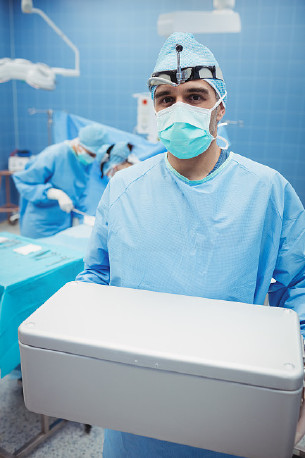face_mask: (153, 79, 215, 158)
